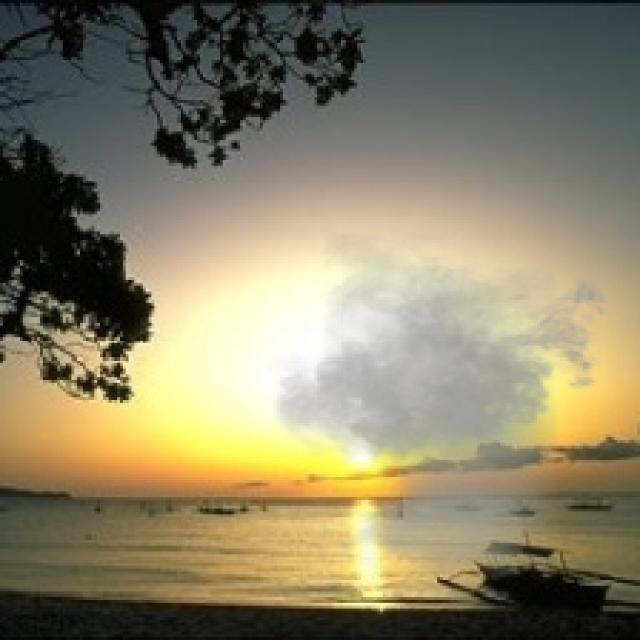Smoke: (260, 231, 620, 580)
